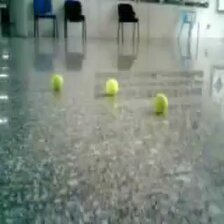tennis: (153, 92, 167, 112), (104, 77, 119, 95), (50, 75, 63, 90)
